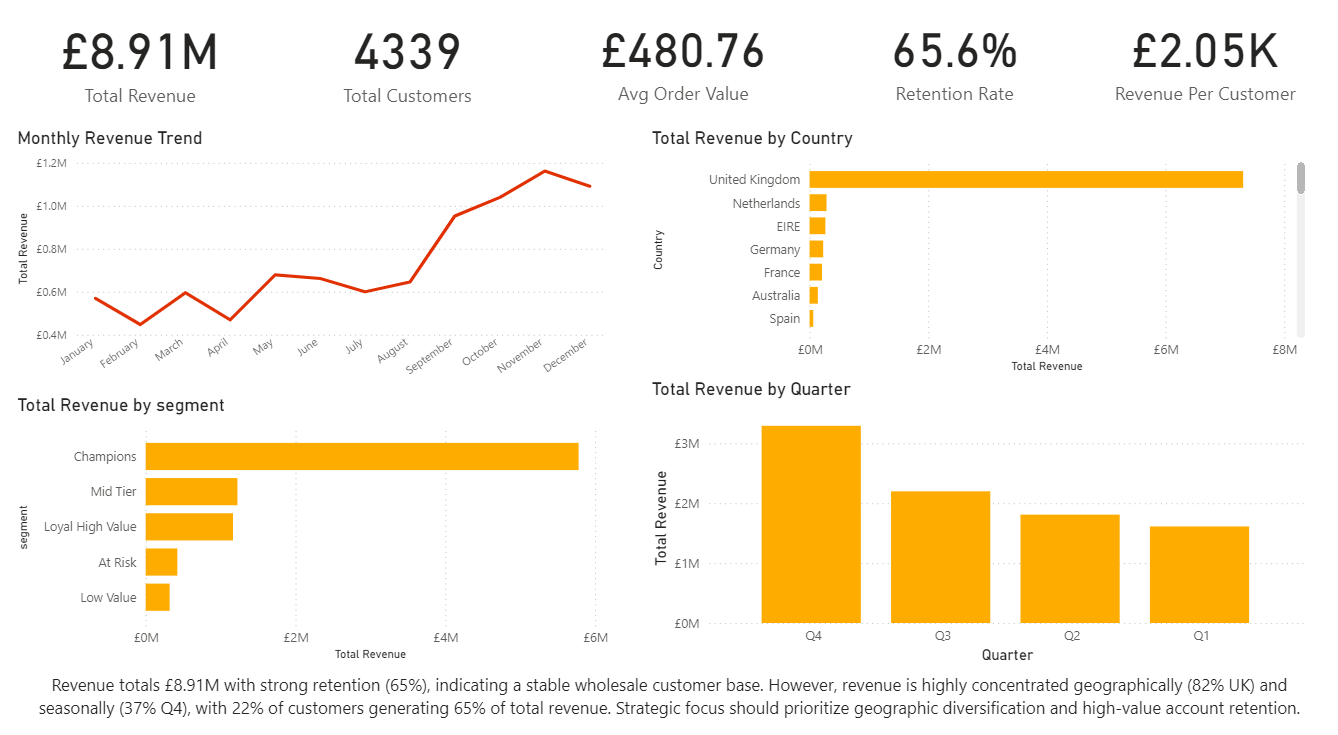

This screenshot's page, from the dashboard's own definition file:
{"tool":"powerbi","page":{"name":"Page 1","canvas":[1280,720],"ordinal":0},"visuals":[{"type":"card","fields":{"Values":["retail_final.Total Revenue"]},"box":[0,0,272,108],"z":0},{"type":"card","fields":{"Values":["retail_final.Avg Order Value"]},"box":[512,0,284,108],"z":1000},{"type":"card","fields":{"Values":["retail_final.Total Customers"]},"box":[268,0,244,108],"z":2000},{"type":"card","fields":{"Values":["retail_final.Revenue Per Customer"]},"box":[1032,0,238,108],"z":3000},{"type":"card","fields":{"Values":["retail_final.Retention Rate"]},"box":[776,0,272,108],"z":4000},{"type":"lineChart","title":"Monthly Revenue Trend","fields":{"Y":["retail_final.Total Revenue"],"Category":["retail_final.InvoiceDate.Variation.Date Hierarchy.Month"]},"box":[14,122,572,248],"z":5000},{"type":"clusteredBarChart","fields":{"Category":["retail_final.Country"],"Y":["retail_final.Total Revenue"]},"box":[618,122,632,238],"z":6000},{"type":"clusteredBarChart","fields":{"Category":["rfm_segment.segment"],"Y":["retail_final.Total Revenue"]},"box":[14,376,572,258],"z":7000},{"type":"clusteredColumnChart","fields":{"Y":["retail_final.Total Revenue"],"Category":["retail_final.Quarter"]},"box":[618,360,632,276],"z":8000},{"type":"textbox","box":[32,636,1218,70],"z":9000}]}

Visuals, with their boxes in screenshot pixels (x1, y1, x2, y2), scaled from the page's 1280x720 canvas onto the 1338x735 screenshot:
card - retail_final.Total Revenue: {"x1": 0, "y1": 0, "x2": 284, "y2": 110}
card - retail_final.Avg Order Value: {"x1": 535, "y1": 0, "x2": 832, "y2": 110}
card - retail_final.Total Customers: {"x1": 280, "y1": 0, "x2": 535, "y2": 110}
card - retail_final.Revenue Per Customer: {"x1": 1079, "y1": 0, "x2": 1328, "y2": 110}
card - retail_final.Retention Rate: {"x1": 811, "y1": 0, "x2": 1095, "y2": 110}
"Monthly Revenue Trend" lineChart: {"x1": 15, "y1": 125, "x2": 613, "y2": 378}
clusteredBarChart - retail_final.Country x retail_final.Total Revenue: {"x1": 646, "y1": 125, "x2": 1307, "y2": 368}
clusteredBarChart - rfm_segment.segment x retail_final.Total Revenue: {"x1": 15, "y1": 384, "x2": 613, "y2": 647}
clusteredColumnChart - retail_final.Total Revenue x retail_final.Quarter: {"x1": 646, "y1": 368, "x2": 1307, "y2": 649}
textbox: {"x1": 33, "y1": 649, "x2": 1307, "y2": 721}
